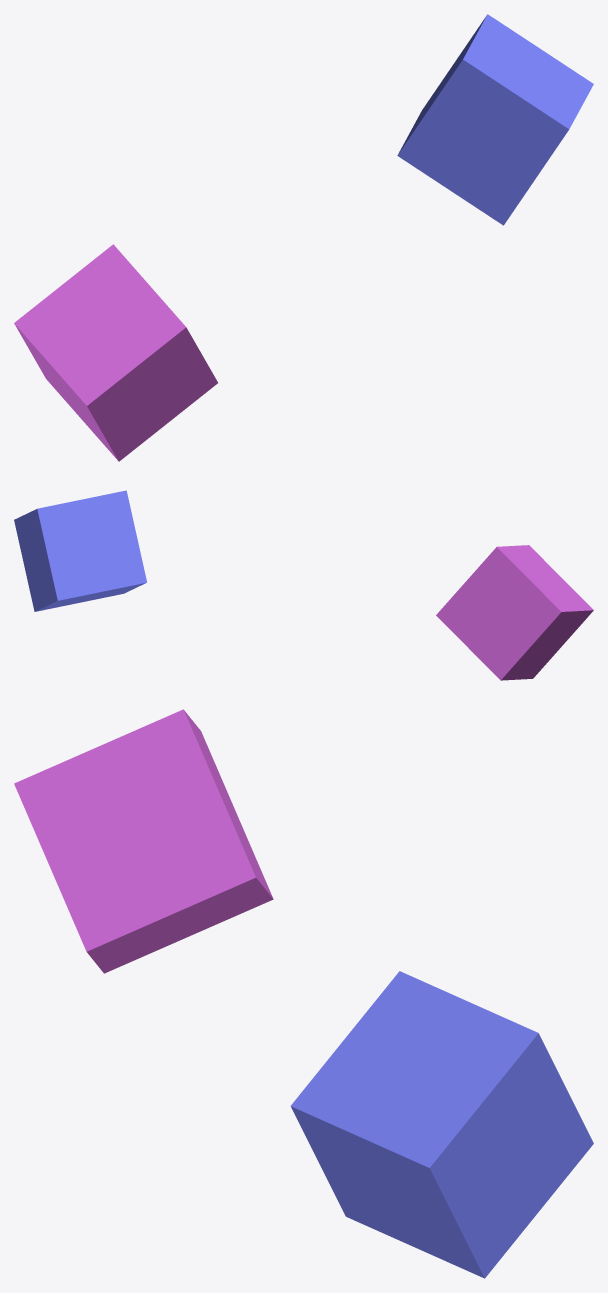
Rendered from half-baked.gltf.
3 views of the same model, one above another, from view 1: azimuth 30°, elevation 25°; view 2: azimuth 150°, elevation 25°; view 3: azimuth 270°, elevation 25° (orthographic). The views are drawn at different scales.
Visible parts, largest first — view 1: Cube, Cube.001; view 2: Cube, Cube.001; view 3: Cube.001, Cube.
Part boxes in pixels (bbox=[...]): Cube: bbox=[14, 244, 217, 461]; Cube.001: bbox=[397, 14, 593, 225]; Cube: bbox=[436, 545, 593, 680]; Cube.001: bbox=[14, 490, 146, 611]; Cube.001: bbox=[290, 971, 593, 1278]; Cube: bbox=[14, 709, 273, 973].
Size of what is drawn, in the model's own units: 11.94 by 3.8 by 6.26.
